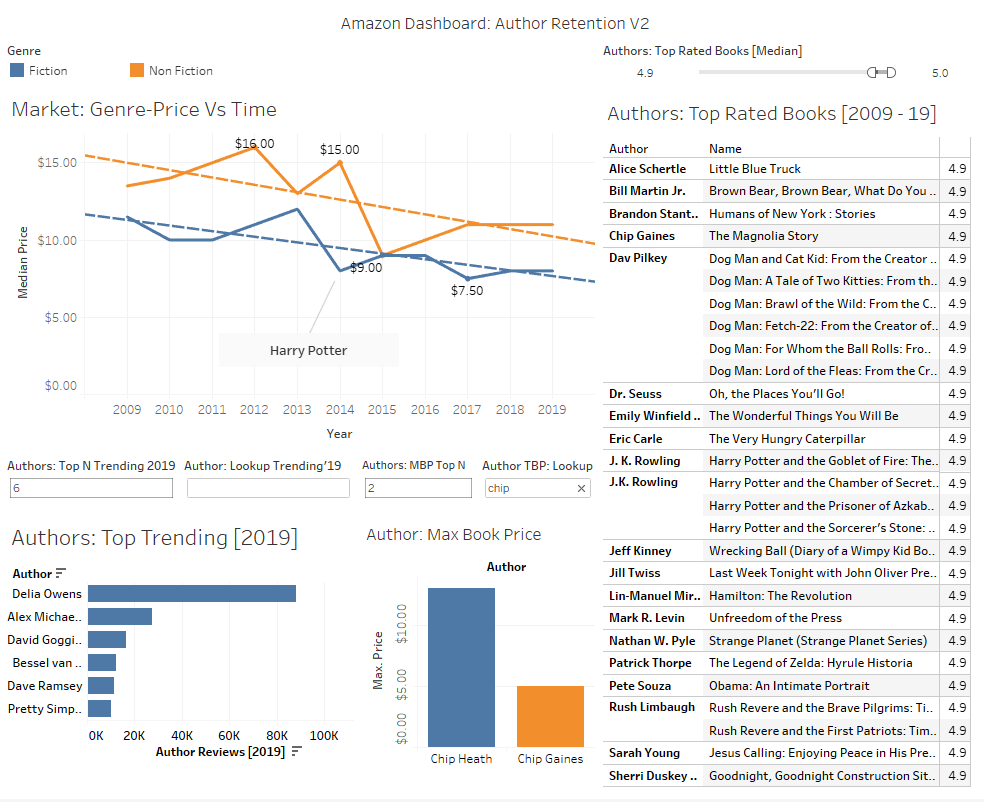

The page's visual inventory and layout, read from the dashboard file:
{"tool":"tableau","page":{"name":"Author Retention Dashboard (2)","canvas":[1000,800],"ordinal":1},"visuals":[{"type":"worksheet","box":[0,0,1000,800]},{"type":"worksheet","param":"horz","box":[8,8,984,784]},{"type":"worksheet","param":"horz","box":[8,8,984,784]},{"type":"worksheet","param":"horz","box":[8,8,984,784]},{"type":"worksheet","param":"vert","box":[8,8,984,784]},{"type":"worksheet","box":[8,8,984,31]},{"type":"worksheet","param":"horz","box":[8,39,984,753]},{"type":"worksheet","param":"horz","box":[8,39,984,753]},{"type":"worksheet","param":"horz","box":[8,39,984,753]},{"type":"worksheet","param":"horz","box":[8,39,984,753]},{"type":"worksheet","param":"horz","box":[8,39,984,753]},{"type":"worksheet","param":"horz","box":[8,39,984,753]},{"type":"worksheet","box":[8,39,984,753]},{"type":"worksheet","param":"horz","box":[8,39,596,415]},{"type":"worksheet","box":[8,39,596,415]},{"type":"worksheet","title":"Market: Genre-Price Vs Time","mark":"Automatic","rows":["Price"],"cols":["Year"],"param":"[federated.02jt9ce194qk3u1esmb680iwsbs5].[none:Genre:nk]","box":[8,39,596,48]},{"type":"worksheet","title":"Authors: Top Rated Books [2010 - 2019]","mark":"Automatic","rows":["Author","Name"],"param":"[federated.02jt9ce194qk3u1esmb680iwsbs5].[med:User Rating:qk]","box":[604,39,388.1,53]},{"type":"worksheet","title":"Market: Genre-Price Vs Time","mark":"Automatic","rows":["Price"],"cols":["Year"],"box":[8,87,596,367]},{"type":"worksheet","title":"Authors: Top Rated Books [2010 - 2019]","mark":"Automatic","rows":["Author","Name"],"box":[604,92,388.1,700]},{"type":"worksheet","param":"[Parameters].[bestsellers with categories.csv Parameter]","box":[8,454,177.5,61]},{"type":"worksheet","title":"Authors: Trending [2019]","mark":"Automatic","rows":["Author"],"cols":["Reviews"],"param":"[federated.02jt9ce194qk3u1esmb680iwsbs5].[none:Author:nk]","box":[185.5,454,177.5,61]},{"type":"worksheet","param":"[Parameters].[Parameter 1]","box":[363,454,120.5,61]},{"type":"worksheet","title":"Max Book Price","mark":"Automatic","rows":["Price"],"cols":["Author"],"param":"[federated.02jt9ce194qk3u1esmb680iwsbs5].[none:Author:nk]","box":[483.5,454,120.5,61]},{"type":"worksheet","title":"Authors: Trending [2019]","mark":"Automatic","rows":["Author"],"cols":["Reviews"],"box":[8,515,355,277]},{"type":"worksheet","title":"Max Book Price","mark":"Automatic","rows":["Price"],"cols":["Author"],"box":[363,515,241,277]}]}

Visuals, with their boxes in screenshot pixels (x1, y1, x2, y2), scaled from the page's 1000x800 canvas onto the 984x802 screenshot:
worksheet: box(0, 0, 983, 801)
worksheet: box(8, 8, 976, 794)
worksheet: box(8, 8, 976, 794)
worksheet: box(8, 8, 976, 794)
worksheet: box(8, 8, 976, 794)
worksheet: box(8, 8, 976, 39)
worksheet: box(8, 39, 976, 794)
worksheet: box(8, 39, 976, 794)
worksheet: box(8, 39, 976, 794)
worksheet: box(8, 39, 976, 794)
worksheet: box(8, 39, 976, 794)
worksheet: box(8, 39, 976, 794)
worksheet: box(8, 39, 976, 794)
worksheet: box(8, 39, 594, 455)
worksheet: box(8, 39, 594, 455)
"Market: Genre-Price Vs Time" worksheet: box(8, 39, 594, 87)
"Authors: Top Rated Books [2010 - 2019]" worksheet: box(594, 39, 976, 92)
"Market: Genre-Price Vs Time" worksheet: box(8, 87, 594, 455)
"Authors: Top Rated Books [2010 - 2019]" worksheet: box(594, 92, 976, 794)
worksheet: box(8, 455, 183, 516)
"Authors: Trending [2019]" worksheet: box(183, 455, 357, 516)
worksheet: box(357, 455, 476, 516)
"Max Book Price" worksheet: box(476, 455, 594, 516)
"Authors: Trending [2019]" worksheet: box(8, 516, 357, 794)
"Max Book Price" worksheet: box(357, 516, 594, 794)
